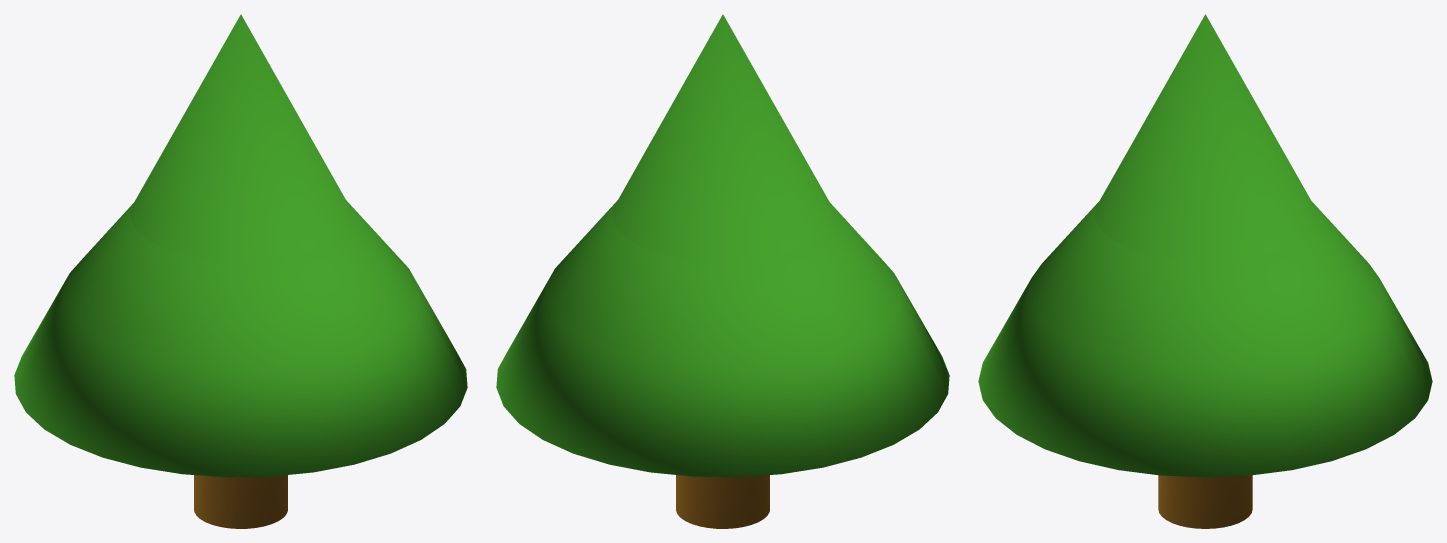
Rendered from tree.glb.
3 renders of one model, left to right at view 1: azimuth 30°, elevation 25°; view 2: azimuth 150°, elevation 25°; view 3: azimuth 270°, elevation 25°, orthographic.
Parts seen in each view (by area): view 1: Cone; view 2: Cone; view 3: Cone.
Part boxes in pixels (x1,y1,x2,y2): Cone: (14, 14, 467, 528); Cone: (496, 14, 949, 528); Cone: (978, 14, 1432, 528).
Bounding box in the file's own units: 4.1 × 4.93 × 4.1.
